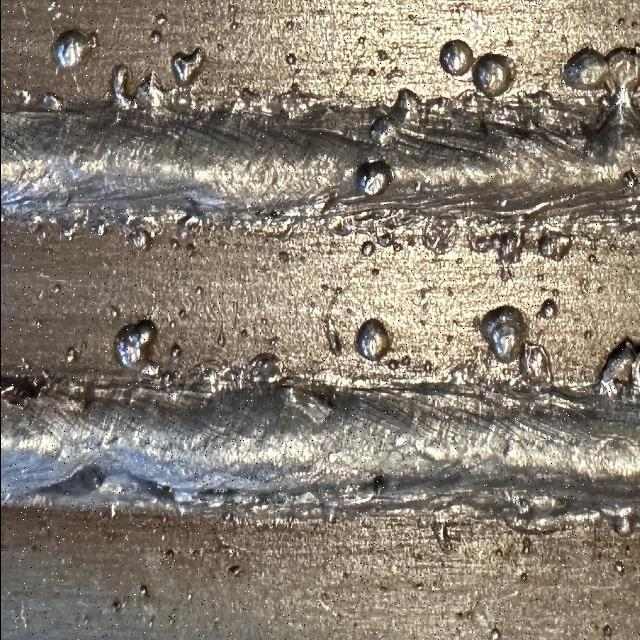Excess Reinforcement: (470, 230, 537, 282), (495, 510, 601, 535), (595, 340, 640, 397), (179, 362, 244, 398), (605, 48, 640, 105), (516, 92, 566, 130), (119, 215, 170, 252), (429, 512, 470, 555), (518, 342, 551, 385), (171, 47, 205, 87), (421, 222, 456, 257), (600, 508, 640, 537), (538, 228, 571, 262), (246, 353, 282, 383), (134, 73, 164, 108), (231, 92, 275, 115), (111, 63, 132, 110), (140, 362, 175, 388), (175, 215, 201, 242), (422, 98, 451, 118), (36, 93, 61, 110), (62, 222, 78, 240), (96, 223, 106, 237)
Spatters: (479, 305, 526, 363), (471, 53, 515, 97), (562, 48, 608, 90), (114, 320, 154, 367), (355, 318, 389, 362), (51, 30, 90, 68), (355, 160, 392, 195), (439, 42, 472, 77), (391, 88, 418, 122), (369, 115, 395, 147), (538, 300, 556, 320), (386, 355, 410, 370), (621, 172, 638, 188), (360, 240, 375, 257), (65, 347, 76, 363), (614, 560, 624, 577), (170, 343, 181, 358), (521, 537, 530, 555), (228, 565, 241, 577), (376, 50, 389, 62), (285, 53, 296, 67), (422, 360, 432, 375), (216, 332, 225, 348), (606, 242, 619, 253), (150, 30, 161, 43), (155, 13, 166, 25), (109, 305, 119, 318), (601, 625, 611, 638), (266, 335, 279, 345), (164, 548, 174, 560), (582, 328, 592, 340), (228, 3, 236, 17), (489, 628, 499, 639), (139, 585, 148, 597), (285, 20, 294, 32), (89, 33, 96, 48), (230, 17, 238, 30), (194, 287, 204, 297), (51, 283, 61, 293), (46, 1, 55, 12), (588, 253, 597, 263), (550, 288, 559, 298), (370, 268, 379, 278), (616, 17, 626, 25), (536, 273, 544, 282), (368, 68, 376, 77), (356, 37, 365, 45), (178, 310, 185, 320), (498, 200, 506, 208), (495, 548, 502, 557), (81, 617, 88, 625), (260, 318, 266, 327), (35, 318, 41, 327), (415, 585, 422, 591), (539, 287, 546, 293), (169, 322, 175, 328), (148, 621, 152, 628)
